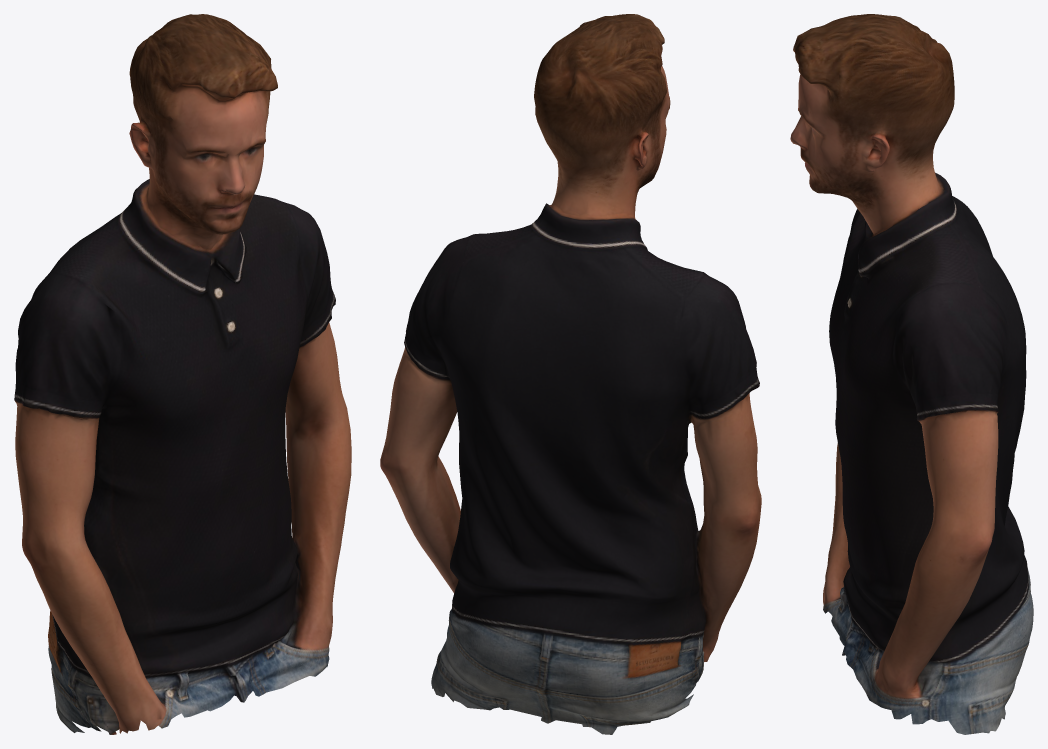
Rendered from manInShirt.gltf.
3 views of the same model, side by side, from view 1: azimuth 30°, elevation 25°; view 2: azimuth 150°, elevation 25°; view 3: azimuth 270°, elevation 25° (orthographic). The views are drawn at different scales.
Visible parts, largest first — view 1: 00079_Nash002_Basics_Free; view 2: 00079_Nash002_Basics_Free; view 3: 00079_Nash002_Basics_Free.
Boxes of the visible parts, x1,y1,x2,y2 form: 00079_Nash002_Basics_Free: (14, 14, 351, 734); 00079_Nash002_Basics_Free: (380, 14, 761, 734); 00079_Nash002_Basics_Free: (790, 14, 1033, 734).
Size of the model in its own units: 20.15 by 37.93 by 12.63.
Materials: 1 (1 with a texture image).
